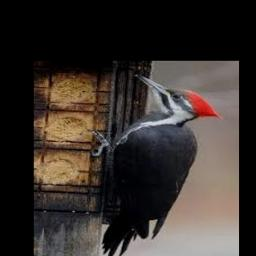Woodpecker: (90, 74, 222, 256)
